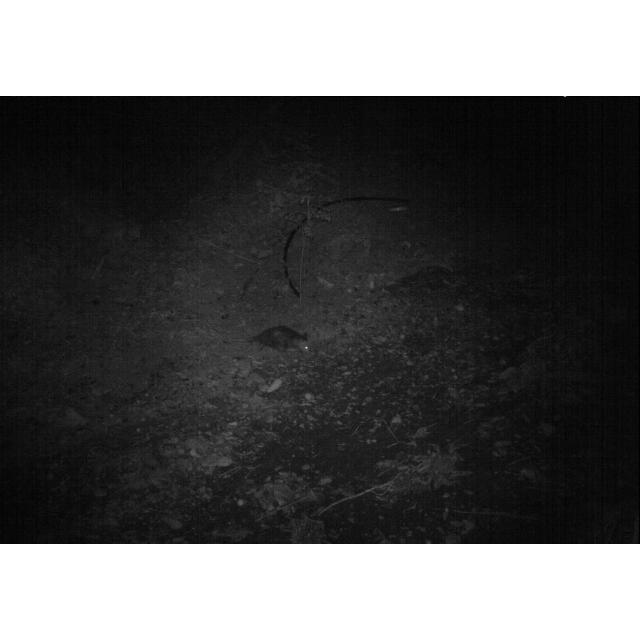animals: (244, 322, 312, 354)
